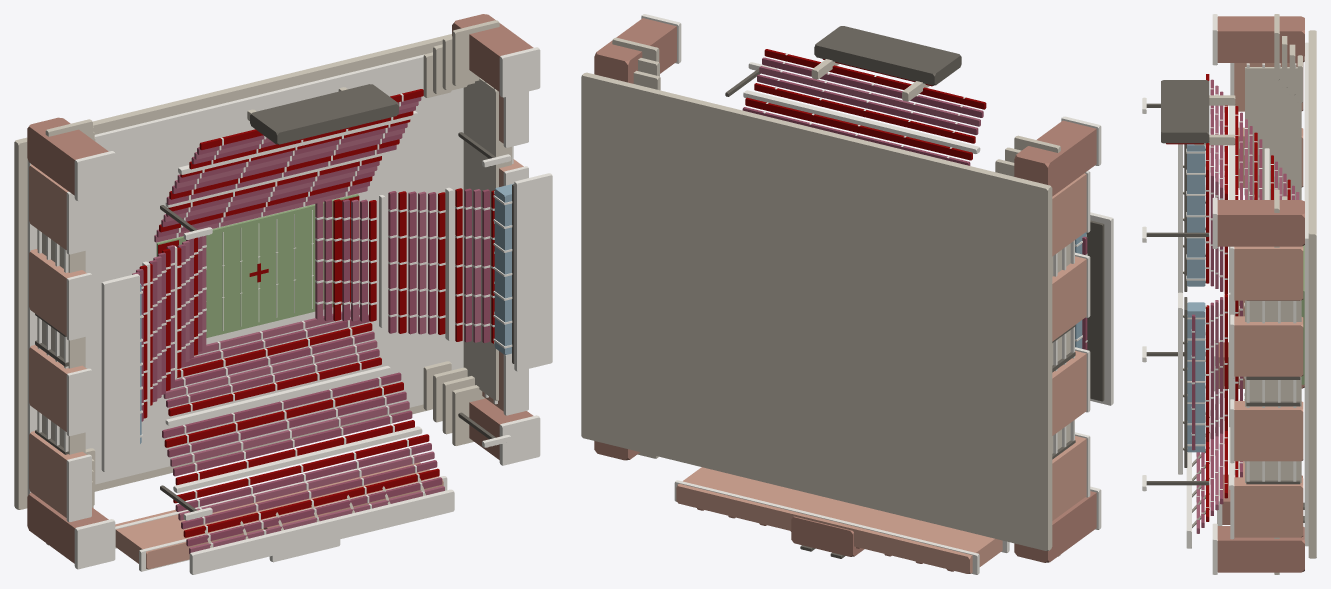
The model's file is kyle-field-chatgpt.glb.
3 views of the same model, side by side, from view 1: azimuth 30°, elevation 25°; view 2: azimuth 150°, elevation 25°; view 3: azimuth 270°, elevation 25° (orthographic). The views are drawn at different scales.
Visible parts, largest first — view 1: world; view 2: world; view 3: world.
Boxes of the visible parts, x1,y1,x2,y2 form: world: (14, 14, 552, 574); world: (581, 14, 1113, 574); world: (1142, 14, 1316, 574).
Size of the model in its own units: 31 by 28.98 by 11.19.
